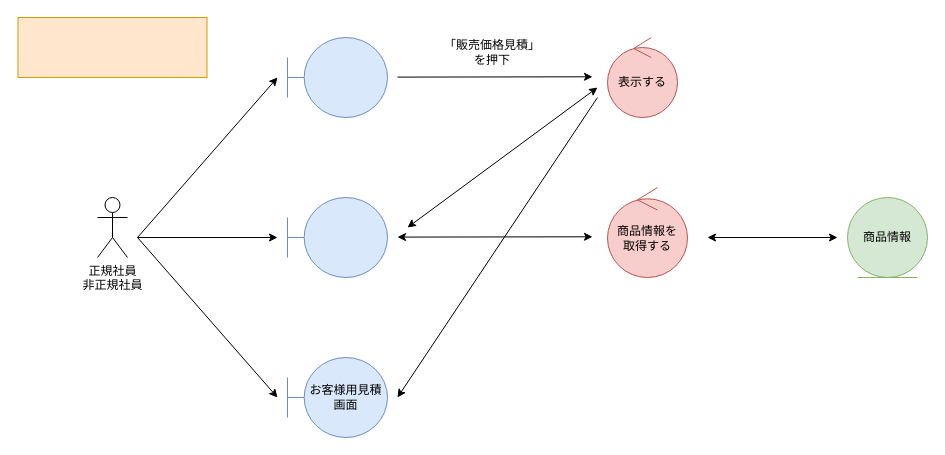
The diagram is 945 pixels wide and 455 high, and some of its shapes have lost their labels. Here are the shapes that lost their labels. From the top down, the centre of each, then its label:
At point (112, 47): "販売価格見積".
At point (337, 77): "ログイン済 ホーム画面".
At point (337, 237): "見積画面".
